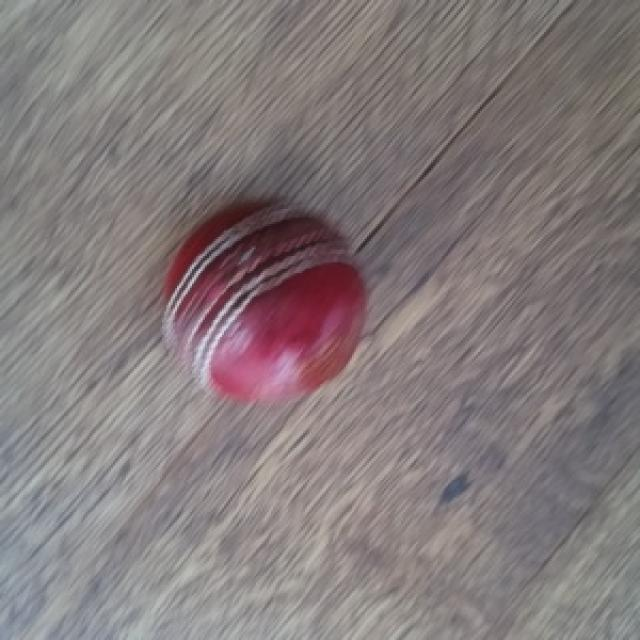ball: (162, 201, 372, 405)
